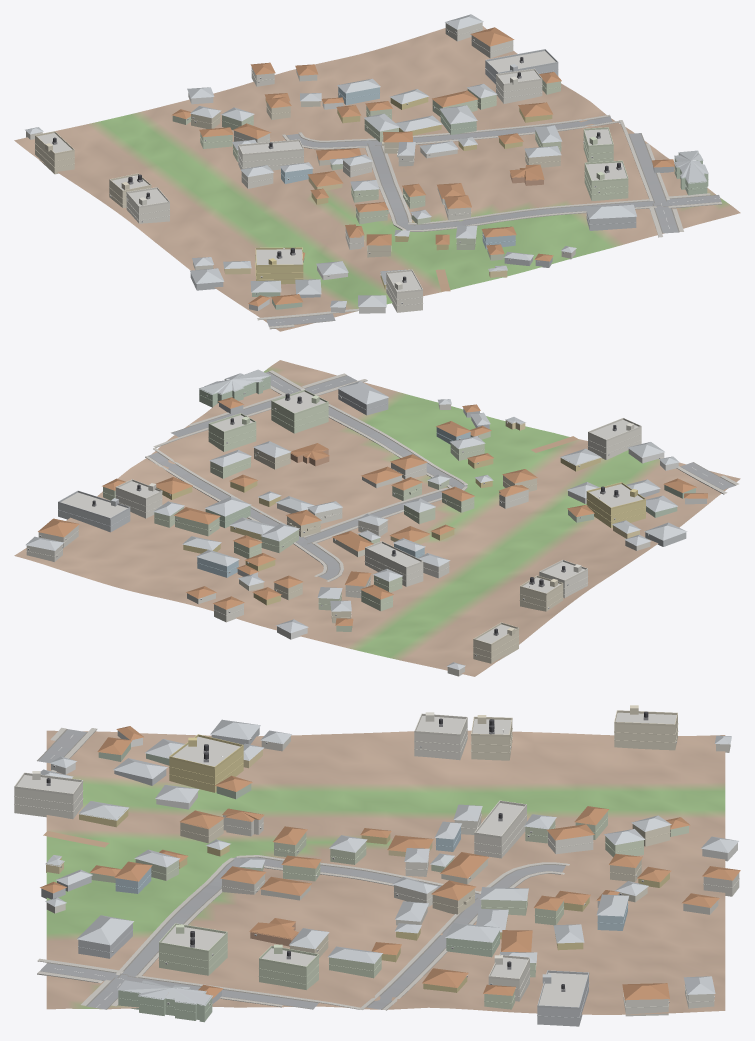
The picture shows the model from 3 angles, top to bottom: view 1: azimuth 30°, elevation 25°; view 2: azimuth 150°, elevation 25°; view 3: azimuth 270°, elevation 25°; orthographic projection. The views are drawn at different scales.
Parts seen in each view (by area): view 1: Terrain-col, Buildings-col, Roads-col, Details, Sidewalks-col; view 2: Terrain-col, Buildings-col, Details, Roads-col, Sidewalks-col; view 3: Terrain-col, Buildings-col, Roads-col, Details, Sidewalks-col.
Part boxes in pixels (x1=…): Terrain-col: x1=14, y1=26, x2=740, y2=331; Buildings-col: x1=25, y1=14, x2=708, y2=313; Roads-col: x1=266, y1=116, x2=721, y2=326; Details: x1=34, y1=28, x2=707, y2=308; Sidewalks-col: x1=257, y1=114, x2=721, y2=329; Terrain-col: x1=14, y1=360, x2=740, y2=676; Buildings-col: x1=25, y1=369, x2=707, y2=676; Details: x1=26, y1=382, x2=648, y2=658; Roads-col: x1=148, y1=371, x2=735, y2=579; Sidewalks-col: x1=145, y1=370, x2=738, y2=581; Terrain-col: x1=46, y1=730, x2=725, y2=1014; Buildings-col: x1=14, y1=712, x2=740, y2=1026; Roads-col: x1=37, y1=729, x2=565, y2=1009; Details: x1=14, y1=705, x2=739, y2=1018; Sidewalks-col: x1=37, y1=727, x2=569, y2=1010.
Size of the model in its own units: 275 by 20.21 by 274.
